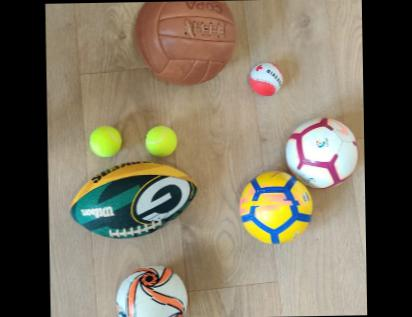Football mini: (238, 166, 314, 243), (284, 113, 358, 189), (113, 259, 190, 315)
Football size 5: (132, 0, 240, 87)
Honkball: (248, 57, 284, 95)
Rugby: (67, 159, 199, 238)
tennis: (144, 122, 178, 156), (88, 123, 122, 156)
